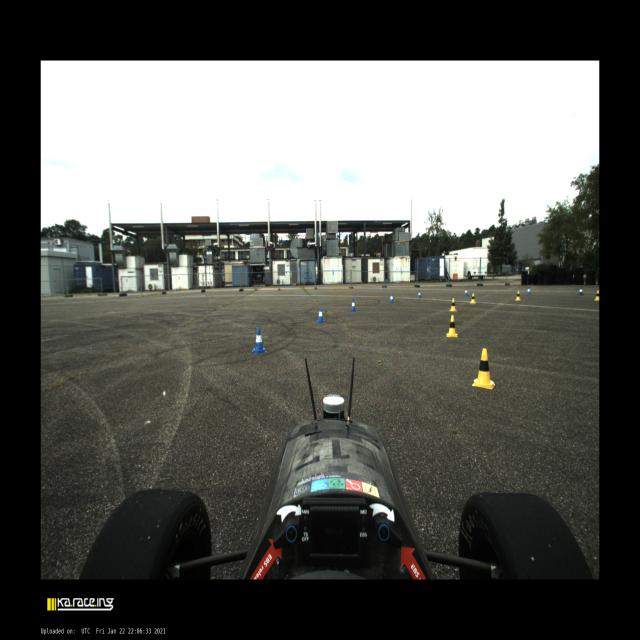blue_cone: (252, 327, 266, 354), (316, 307, 324, 323), (350, 299, 357, 312), (389, 292, 394, 304), (578, 286, 584, 296), (464, 288, 468, 296), (527, 286, 531, 294), (418, 290, 421, 298)
yellow_cone: (472, 348, 495, 390), (446, 316, 458, 338), (448, 298, 458, 312), (470, 293, 476, 304), (515, 291, 521, 301), (594, 290, 599, 301)
